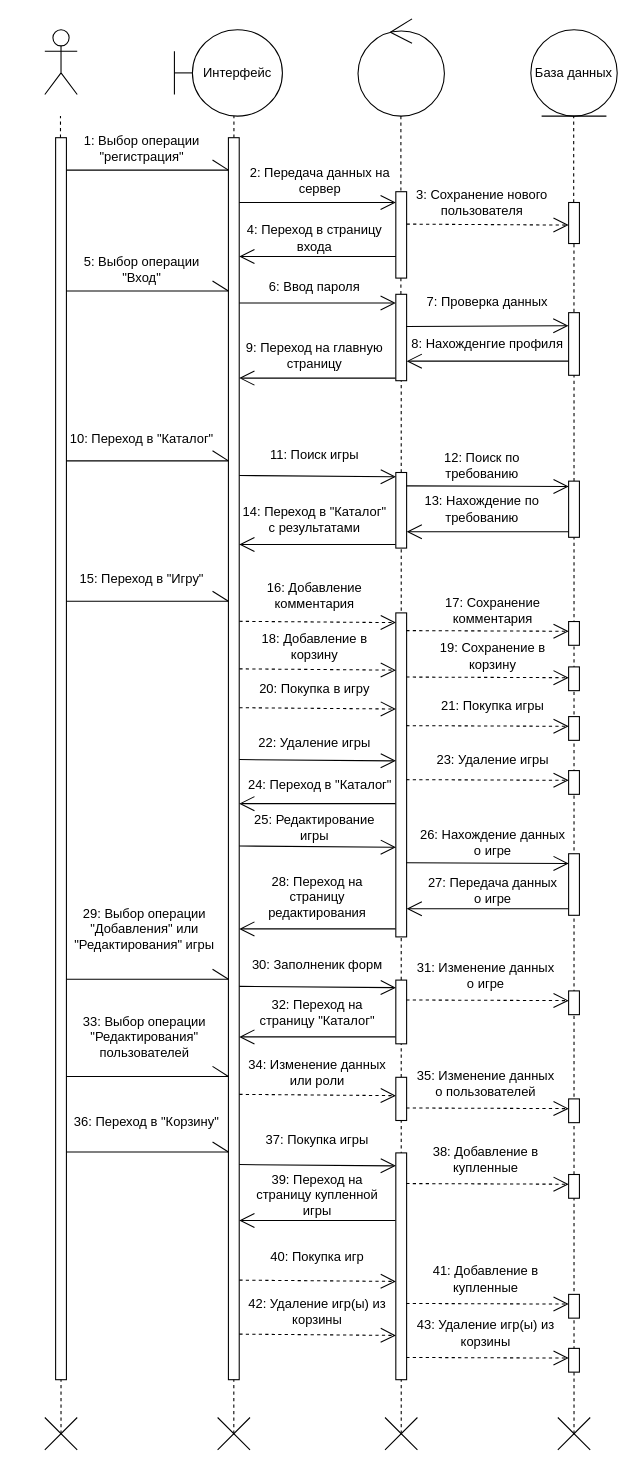
Some shapes in this 636 by 1469 pixel diagram are drawn without their labels. The shapes that lost their labels are listed below. From the top down, each one's centre as x and y in pixels, then its label:
At (60,61): "Пользователи".
At (400,67): "Контроллер".
